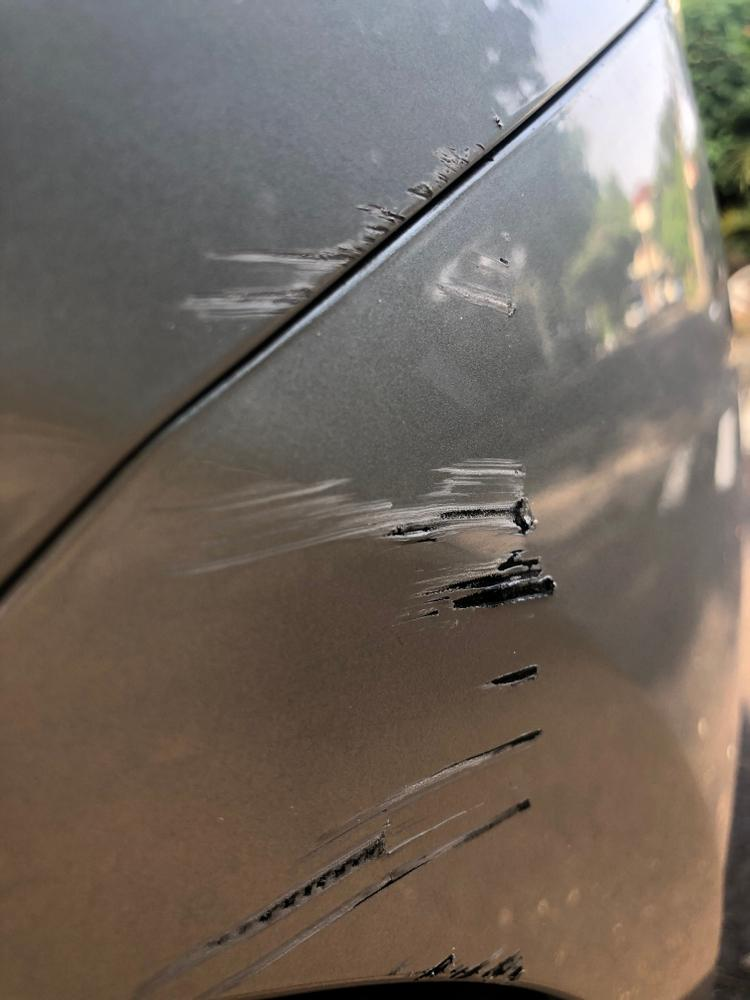scratch: (139, 444, 563, 1000), (173, 110, 506, 330)
